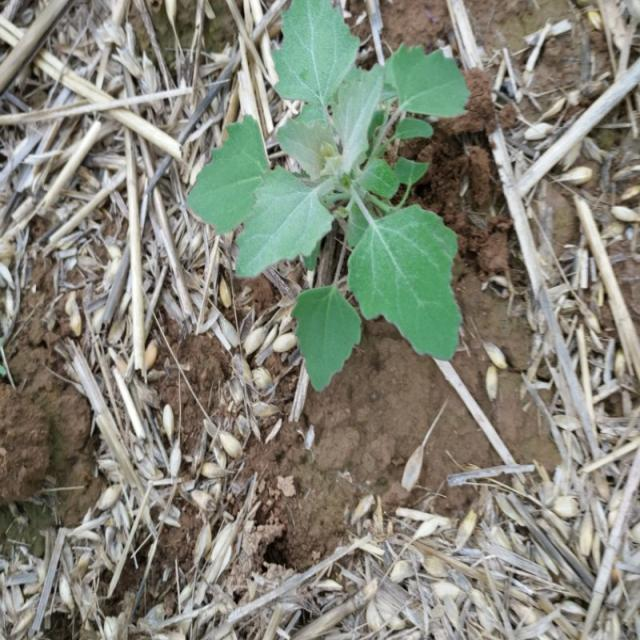goosefoots: (175, 0, 478, 381)
